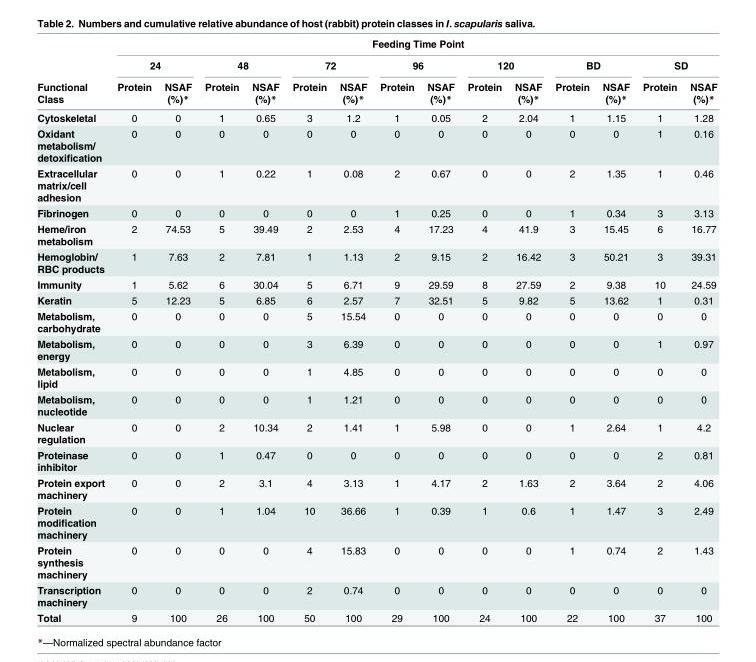table: (36, 37, 716, 623)
table column: (36, 37, 110, 623), (372, 37, 420, 623), (547, 37, 595, 623), (110, 37, 157, 623), (197, 37, 244, 623), (285, 37, 332, 623), (460, 37, 507, 623), (635, 37, 682, 623), (244, 37, 285, 623), (157, 37, 197, 623), (332, 37, 372, 623), (420, 37, 460, 623), (507, 37, 547, 623), (595, 37, 635, 623), (682, 37, 716, 623)
table column header: (36, 37, 716, 107)
table row: (36, 164, 716, 204), (36, 541, 716, 581), (36, 125, 716, 164), (36, 502, 716, 541), (36, 75, 716, 107), (36, 220, 716, 248), (36, 248, 716, 276), (36, 307, 716, 335), (36, 335, 716, 363), (36, 390, 716, 418), (36, 418, 716, 446), (36, 446, 716, 474), (36, 474, 716, 502), (36, 581, 716, 609), (36, 363, 716, 390), (36, 53, 716, 75), (36, 107, 716, 125), (36, 37, 716, 53), (36, 204, 716, 220), (36, 291, 716, 307), (36, 276, 716, 291), (36, 609, 716, 623)
table spanning cell: (110, 37, 716, 53), (36, 37, 110, 107), (197, 53, 285, 75), (372, 53, 460, 75), (547, 53, 635, 75), (110, 53, 197, 75), (285, 53, 372, 75), (460, 53, 547, 75), (635, 53, 716, 75)
